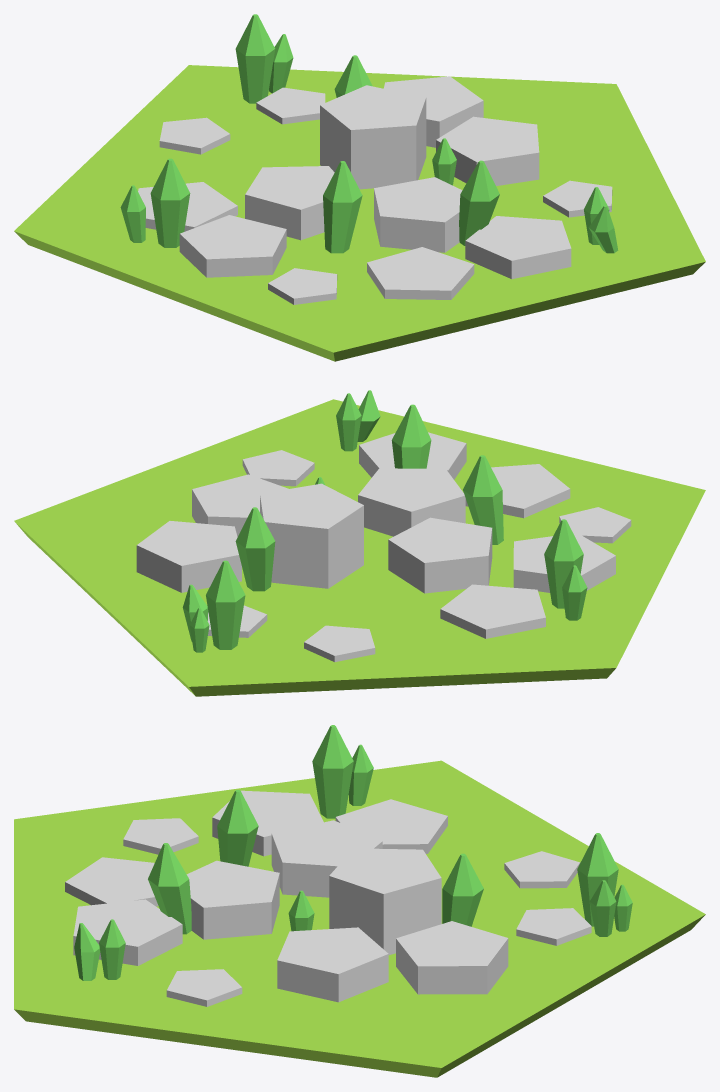
Rendered from RockTilesCrystal_green.fbx.
3 renders of one model, top to bottom at view 1: azimuth 30°, elevation 25°; view 2: azimuth 150°, elevation 25°; view 3: azimuth 270°, elevation 25°, orthographic. The views are drawn at different scales.
Visible parts, largest first — view 1: origine.002; view 2: origine.002; view 3: origine.002.
Boxes of the visible parts, x1=… form: origine.002: x1=14, y1=14, x2=705, y2=361; origine.002: x1=14, y1=390, x2=705, y2=696; origine.002: x1=14, y1=725, x2=705, y2=1077.
Size of the model in its own units: 111 by 17.38 by 105.
